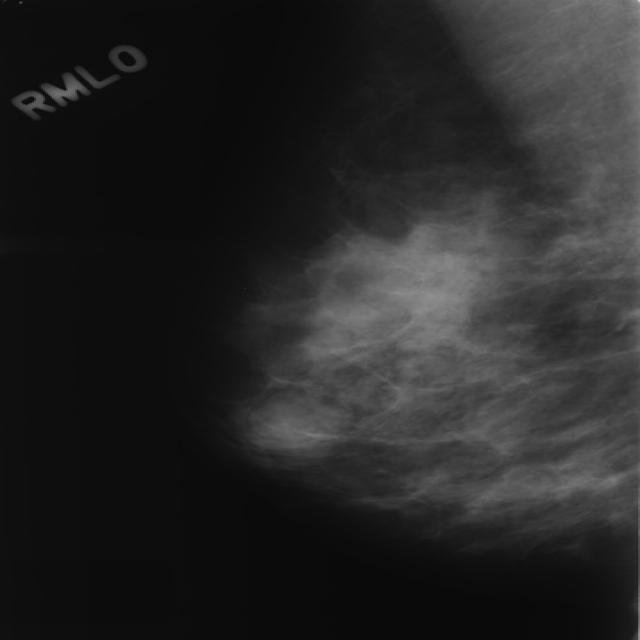tumour: (242, 391, 332, 450)
